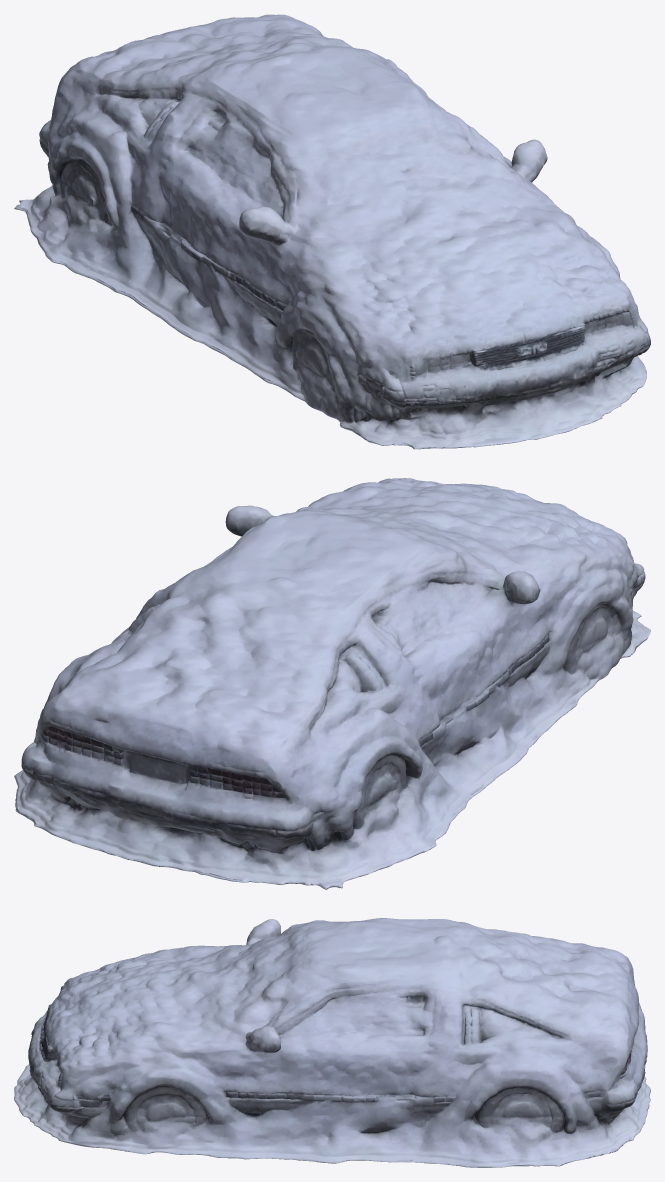
The model's file is DMC.glb.
3 renders of one model, top to bottom at view 1: azimuth 30°, elevation 25°; view 2: azimuth 150°, elevation 25°; view 3: azimuth 270°, elevation 25°, orthographic. The views are drawn at different scales.
Visible parts, largest first — view 1: tripo_node_e1e19e69-7b22-4693-b3f4-c5131de90c20; view 2: tripo_node_e1e19e69-7b22-4693-b3f4-c5131de90c20; view 3: tripo_node_e1e19e69-7b22-4693-b3f4-c5131de90c20.
Boxes of the visible parts, bbox=[...] form: tripo_node_e1e19e69-7b22-4693-b3f4-c5131de90c20: bbox=[14, 14, 650, 449]; tripo_node_e1e19e69-7b22-4693-b3f4-c5131de90c20: bbox=[14, 478, 650, 889]; tripo_node_e1e19e69-7b22-4693-b3f4-c5131de90c20: bbox=[14, 918, 650, 1167].
Size of the model in its own units: 0.56 by 0.2623 by 0.985.
Materials: 1 (1 with a texture image).
